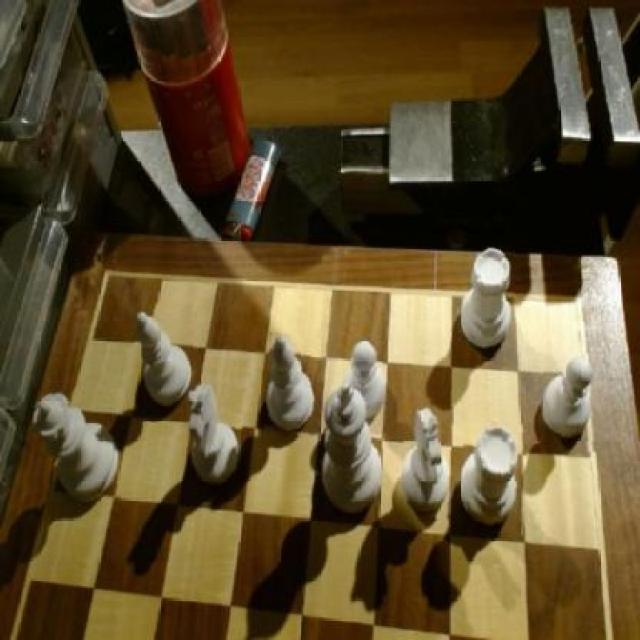black-rook: (135, 306, 193, 406), (264, 336, 320, 436)
white-bishop: (324, 386, 386, 512)
white-king: (188, 380, 244, 490), (401, 404, 454, 518)
white-knight: (542, 352, 600, 452), (348, 340, 387, 423)
white-pawn: (28, 391, 119, 501)
white-queen: (460, 420, 528, 535), (458, 248, 514, 356)
